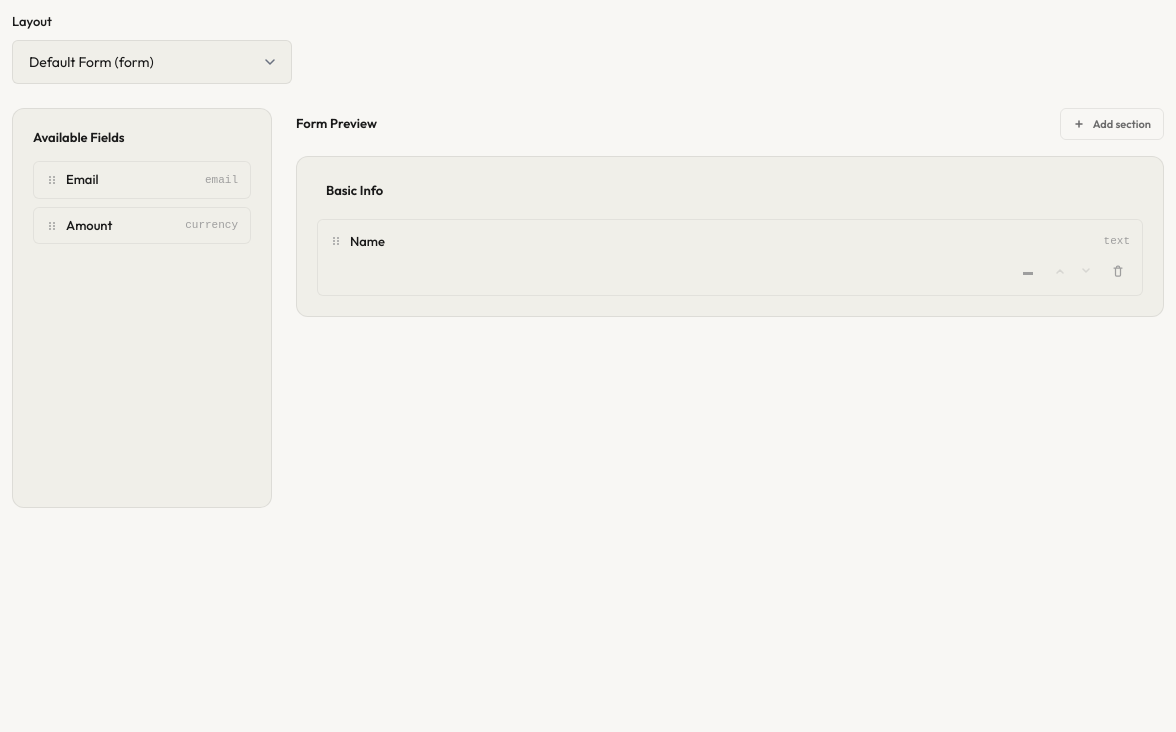
LayoutBuilderTab › removes a section when its delete button is clicked
Check: the button "Basic Info" is shown, box x1=317 y1=176 x2=392 y2=202
// Add a second section first so we can remove one
Click the button "Add section": (1112, 124) x1=1060 y1=108 x2=1164 y2=140
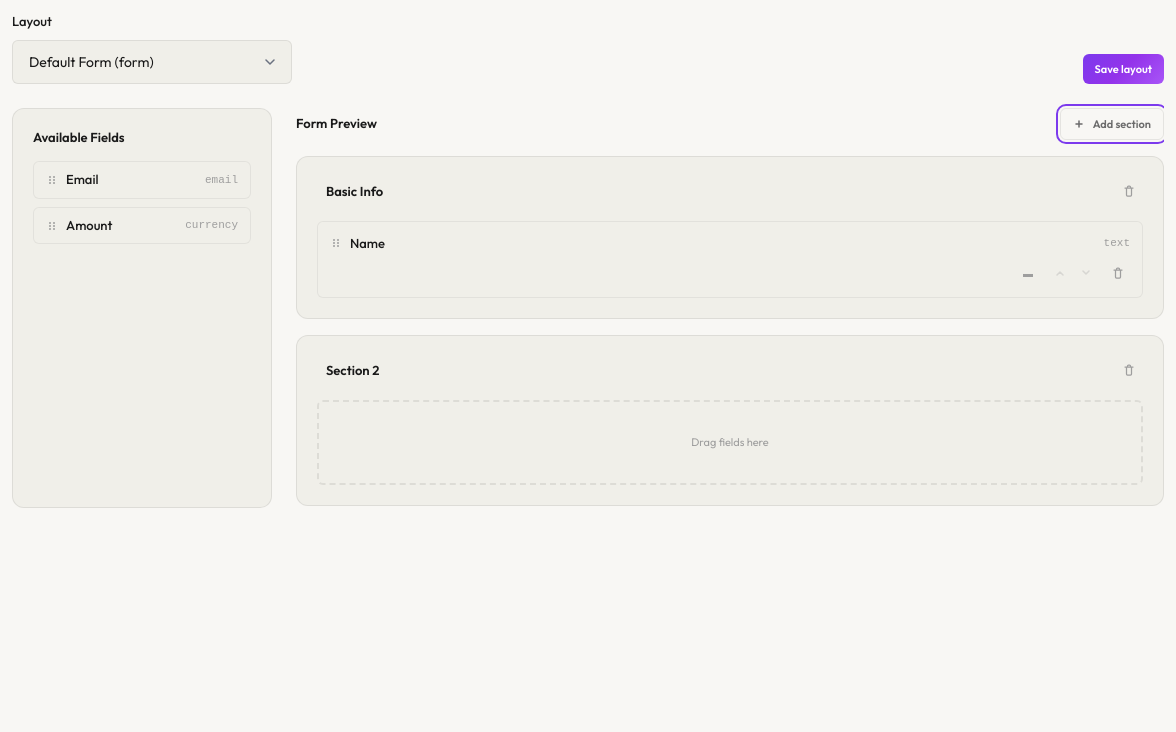
Check: the button "Section 2" is shown, box x1=317 y1=357 x2=388 y2=383
// Remove the new section
Click the button named "Remove section": (1129, 370) x1=1115 y1=356 x2=1143 y2=384
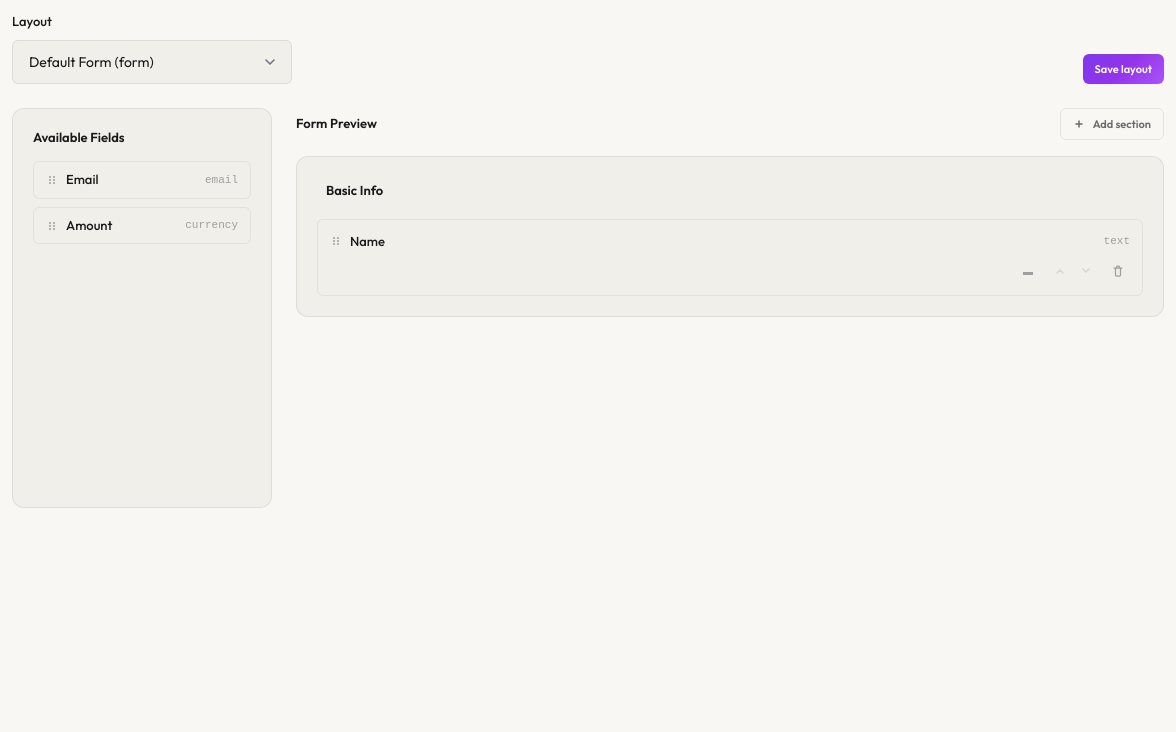
Check: the button "Section 2" is gone
